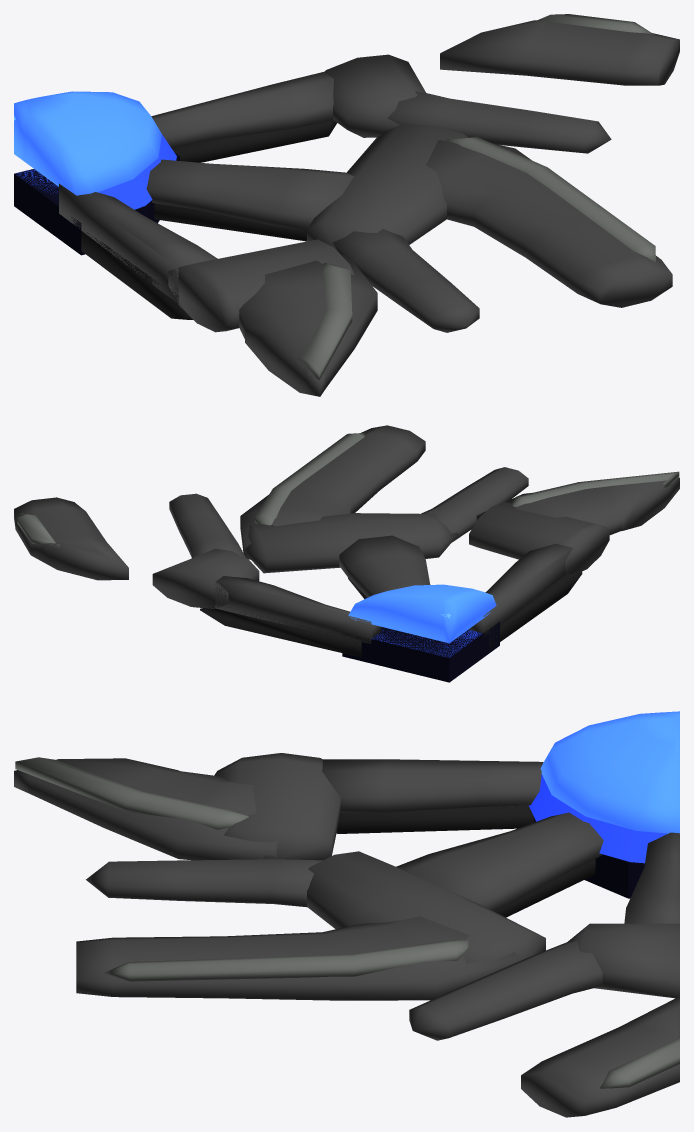
Rendered from newsh-hash-197-f3.glb.
3 views of the same model, one above another, from view 1: azimuth 30°, elevation 25°; view 2: azimuth 150°, elevation 25°; view 3: azimuth 270°, elevation 25° (orthographic). The views are drawn at different scales.
Parts seen in each view (by area): view 1: newsh-hash-197-f3; view 2: newsh-hash-197-f3; view 3: newsh-hash-197-f3.
Boxes of the visible parts, x1,y1,x2,y2 form: newsh-hash-197-f3: [14, 14, 679, 396]; newsh-hash-197-f3: [14, 425, 679, 682]; newsh-hash-197-f3: [14, 711, 679, 1117].
Bounding box in the file's own units: 2 × 0.3169 × 1.7.
